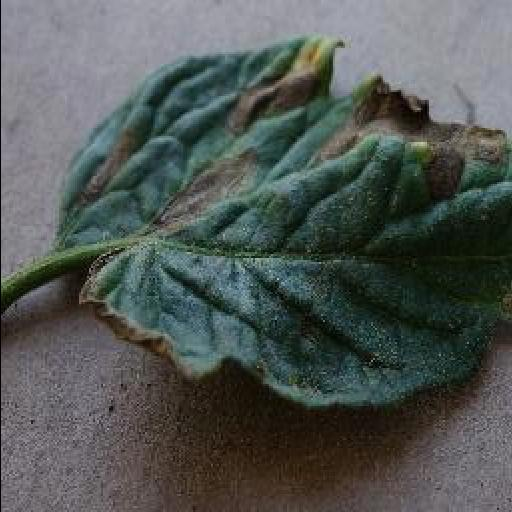disease_tomato: (60, 36, 512, 408)
